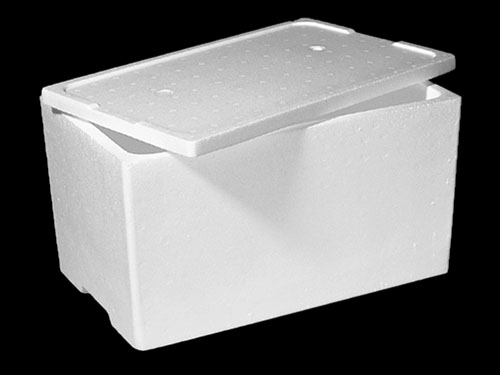Foam Box: (32, 12, 468, 353)
